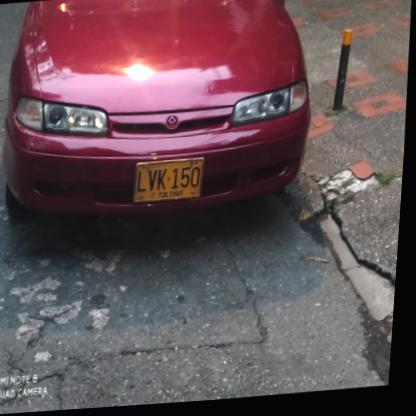placa: (134, 157, 208, 207)
